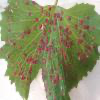grape leaf black rot: (2, 0, 99, 99)
